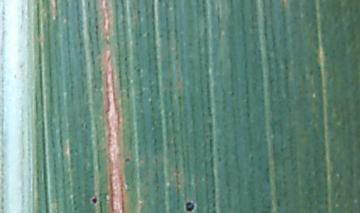tarspot: (182, 198, 199, 213), (88, 193, 101, 208), (123, 154, 133, 166)
